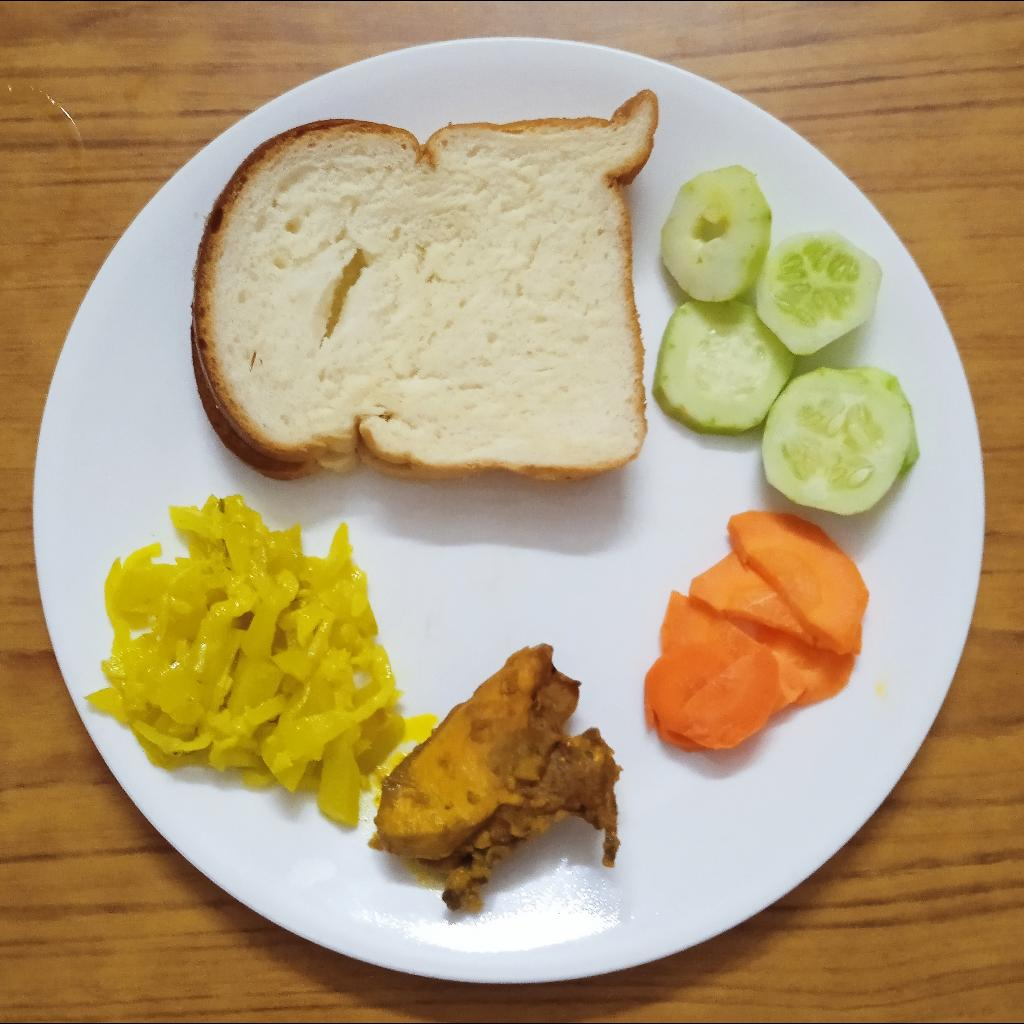bread: (188, 90, 658, 487)
carrot: (644, 509, 868, 759)
chicken: (371, 646, 626, 919)
cucumber: (650, 165, 919, 518)
papaya: (86, 499, 443, 836)
